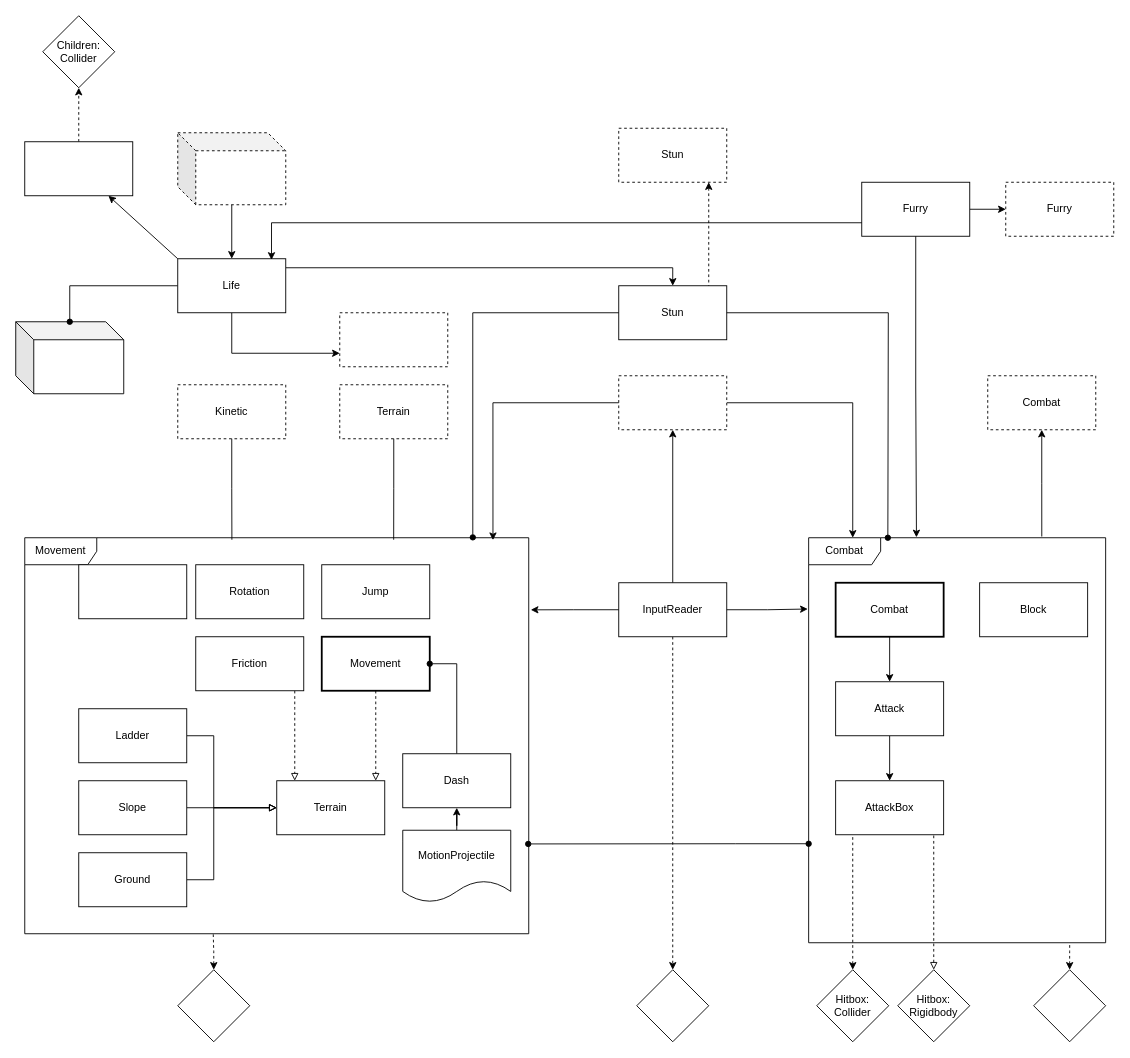
This 1130x1058 diagram has some shape labels left out. Each missing label, with the centre of its shape:
Animator: (x=1069, y=1005)
Enemy: (x=231, y=168)
Gravity: (x=132, y=591)
Input: (x=672, y=402)
Living: (x=393, y=339)
Player: (x=69, y=357)
PlayerInput: (x=672, y=1005)
Ragdoll: (x=78, y=168)
Rigidbody: (x=213, y=1005)
